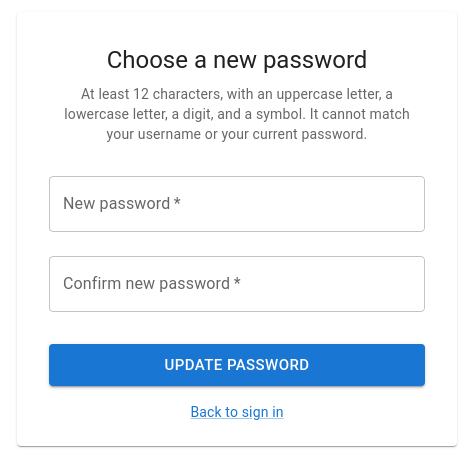
Test: password reset pages › reset page submits the token from the link hash
The image size is (475, 465).
Type "ResetPass123!x" into the password field labelled "New password *" at (237, 204), box [49, 176, 425, 232]
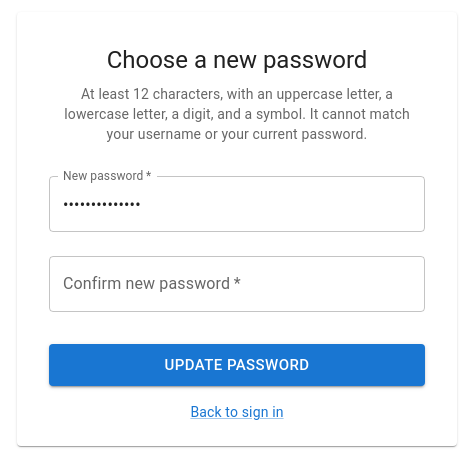
Type "ResetPass123!x" into the password field labelled "Confirm new password *" at (237, 284), box [49, 256, 425, 312]
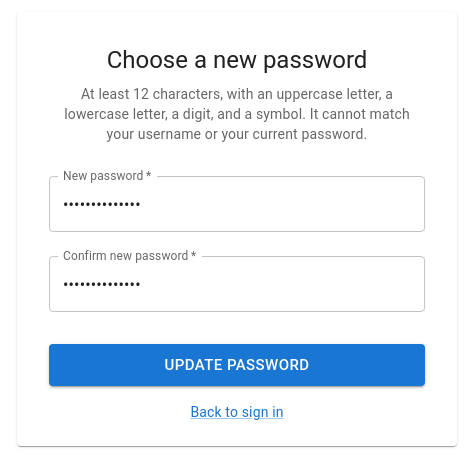
Click the button "Update password" at (237, 365), box [49, 344, 425, 386]
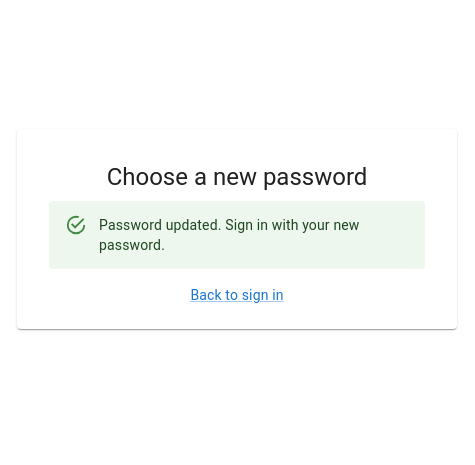
Now the text "Password updated. Sign in with your new password." is shown, box [99, 217, 360, 253]
